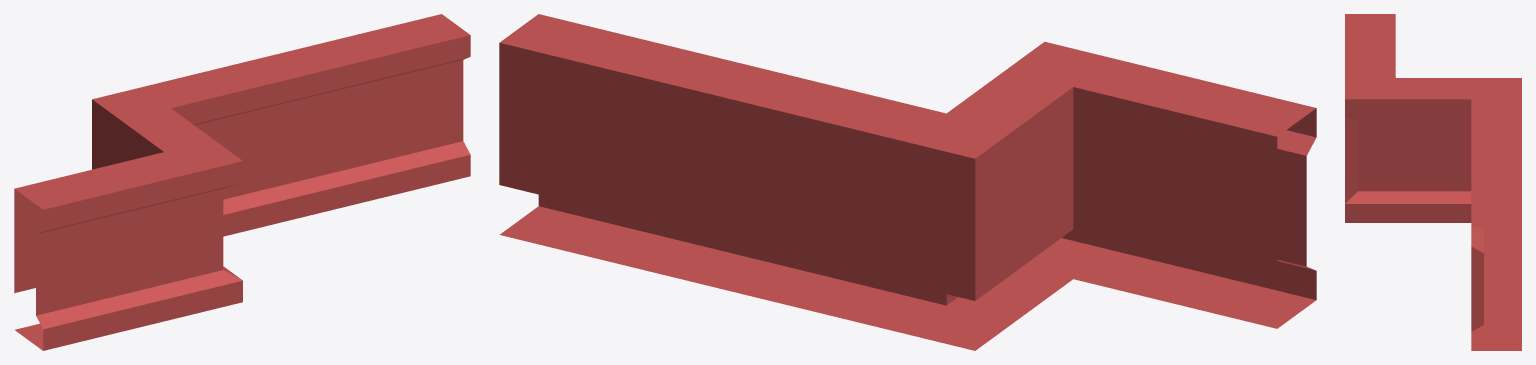
File: Cornice_Small_Metal_90Angle_L.gltf
3 renders of one model, left to right at view 1: azimuth 30°, elevation 25°; view 2: azimuth 150°, elevation 25°; view 3: azimuth 270°, elevation 25°, orthographic. The views are drawn at different scales.
Visible parts, largest first — view 1: Cornice_Small_Metal_90Angle_L; view 2: Cornice_Small_Metal_90Angle_L; view 3: Cornice_Small_Metal_90Angle_L.
Boxes of the visible parts, bbox=[...] form: Cornice_Small_Metal_90Angle_L: bbox=[14, 14, 470, 350]; Cornice_Small_Metal_90Angle_L: bbox=[499, 14, 1316, 350]; Cornice_Small_Metal_90Angle_L: bbox=[1345, 14, 1521, 350].
Size of what is drawn, in the model's own units: 2 by 0.5403 by 0.7.
